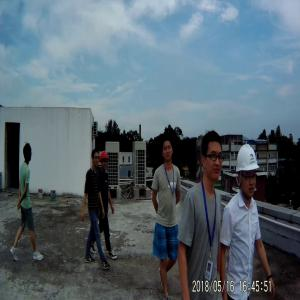none: (201, 128, 224, 186), (161, 135, 175, 166), (23, 143, 34, 167), (92, 148, 101, 170)
red: (101, 150, 110, 174)
white: (237, 141, 260, 203)
